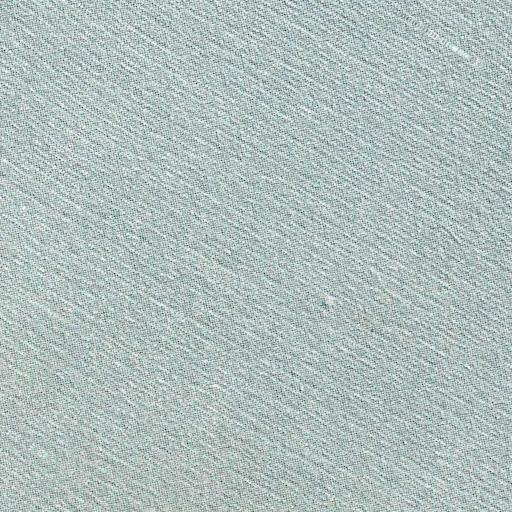knot: (315, 284, 351, 317)
